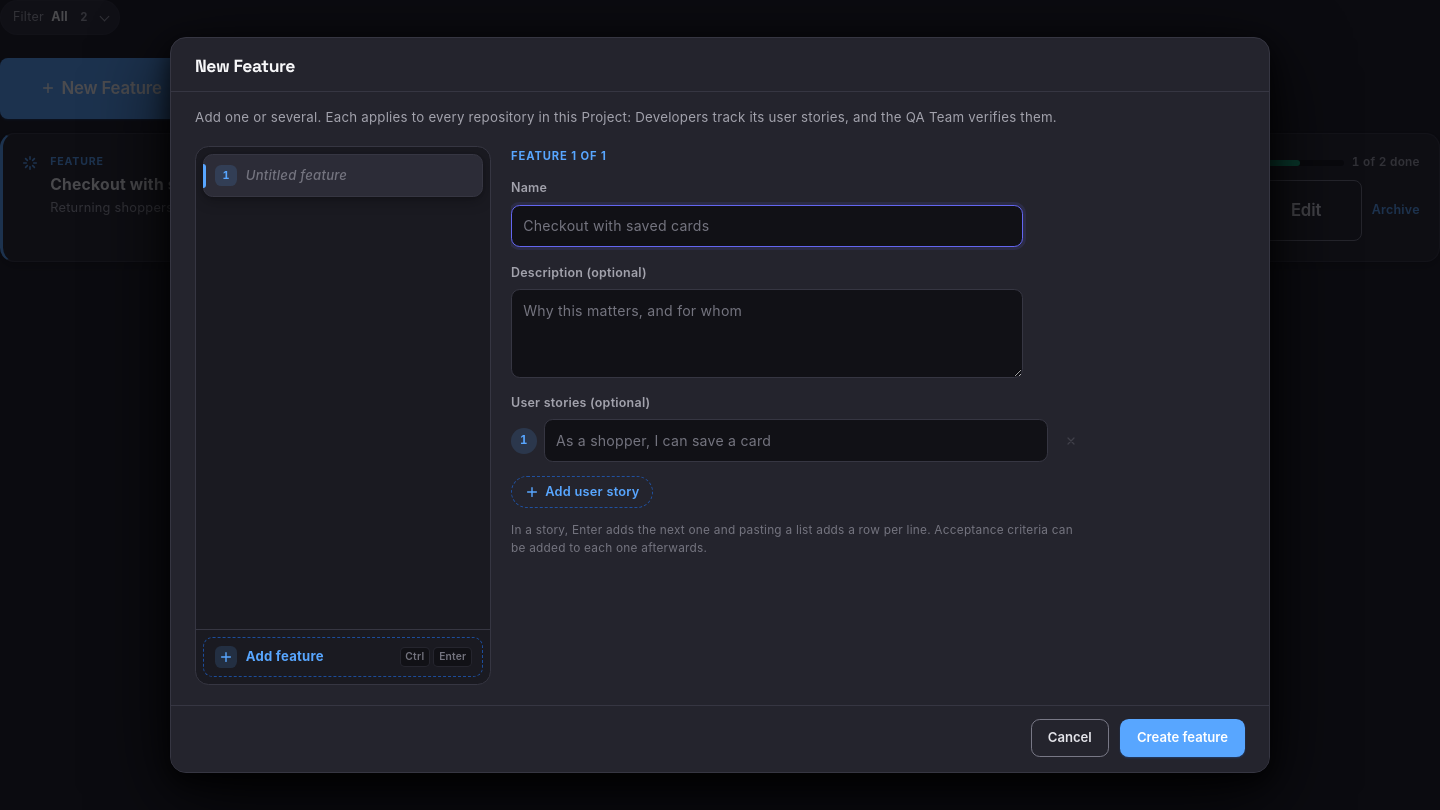
Test: ProjectQaWorkspace › opens New Feature on a new request, once, never on a re-render
The image size is (1440, 810).
Check: the dialog shows "New Feature", box [195,55,295,77]
Click the button "Cancel" at (1070, 738), box [1031,719,1109,757]
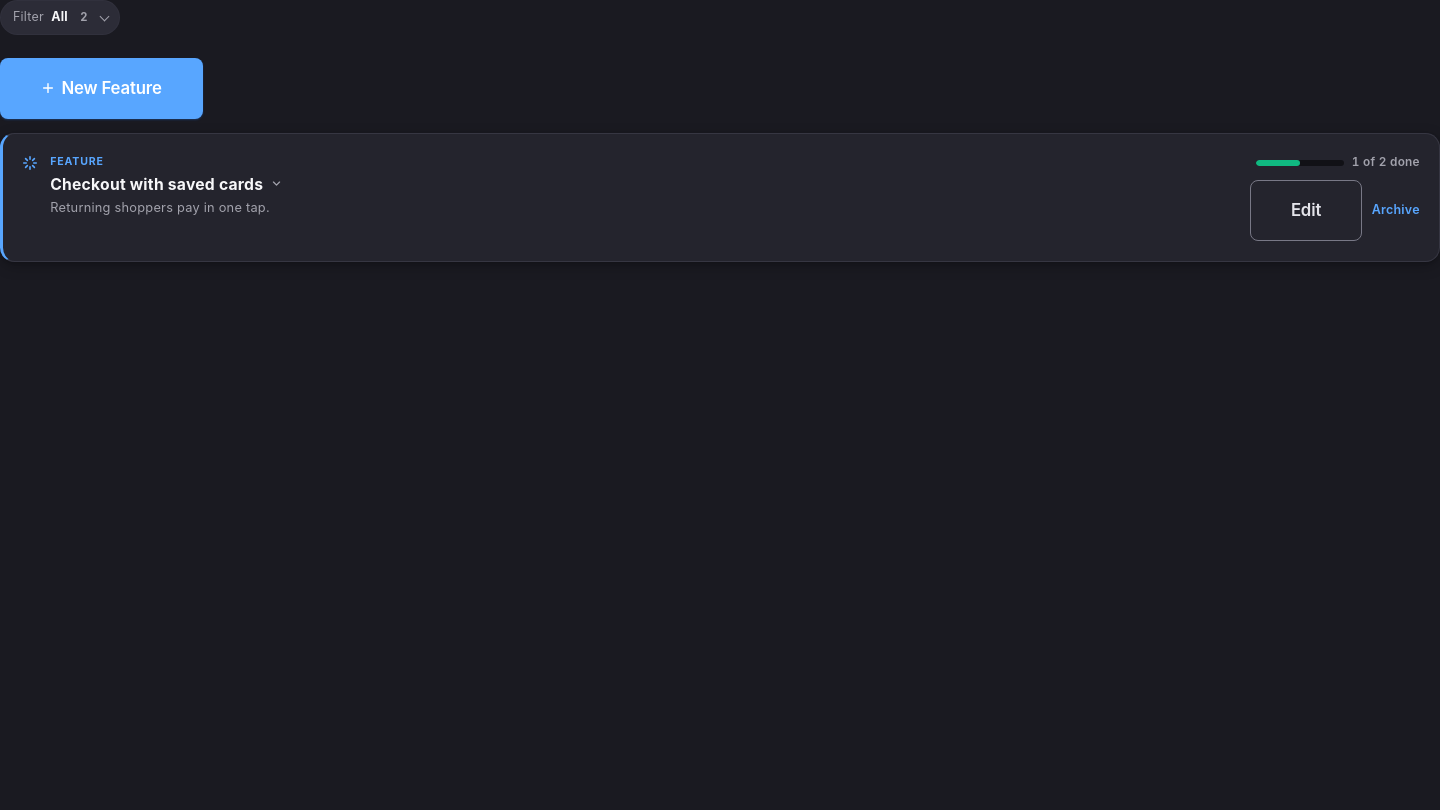
Check: the element with class "rq-batch" is gone
